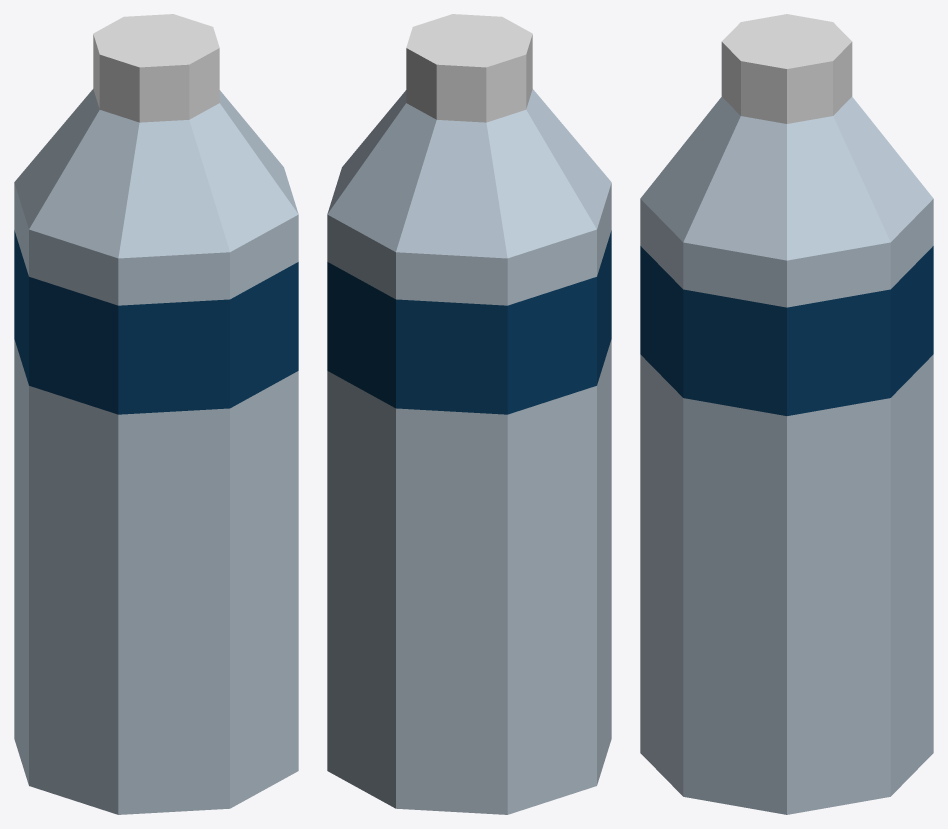
Rendered from waterBottle_001.fbx.
3 renders of one model, left to right at view 1: azimuth 30°, elevation 25°; view 2: azimuth 150°, elevation 25°; view 3: azimuth 270°, elevation 25°, orthographic.
Parts seen in each view (by area): view 1: waterBottle_001; view 2: waterBottle_001; view 3: waterBottle_001.
Boxes of the visible parts, x1=… form: waterBottle_001: x1=14, y1=14, x2=298, y2=814; waterBottle_001: x1=327, y1=14, x2=611, y2=814; waterBottle_001: x1=640, y1=14, x2=933, y2=814.
Bounding box in the file's own units: 8 × 21.41 × 8.
